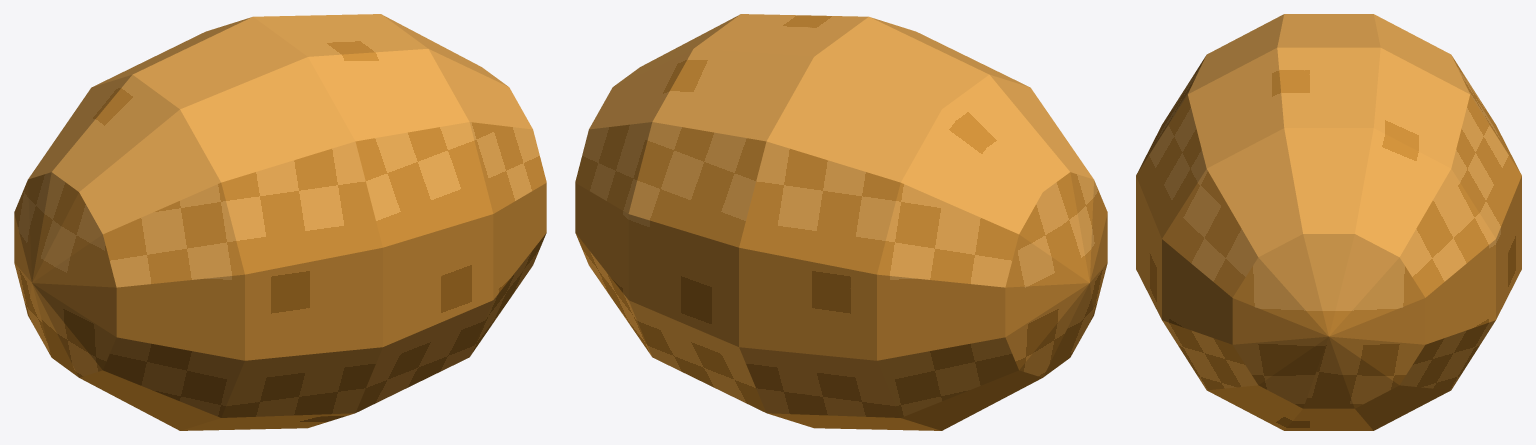
The model's file is potato.fbx.
3 renders of one model, left to right at view 1: azimuth 30°, elevation 25°; view 2: azimuth 150°, elevation 25°; view 3: azimuth 270°, elevation 25°, orthographic. The views are drawn at different scales.
Parts seen in each view (by area): view 1: sphere; view 2: sphere; view 3: sphere.
Boxes of the visible parts, <box> form: sphere: <box>14,14,546,430</box>; sphere: <box>575,14,1107,430</box>; sphere: <box>1136,14,1521,430</box>.
Bounding box in the file's own units: 87.5 × 62.5 × 62.5.
1 material, 1 textured.
